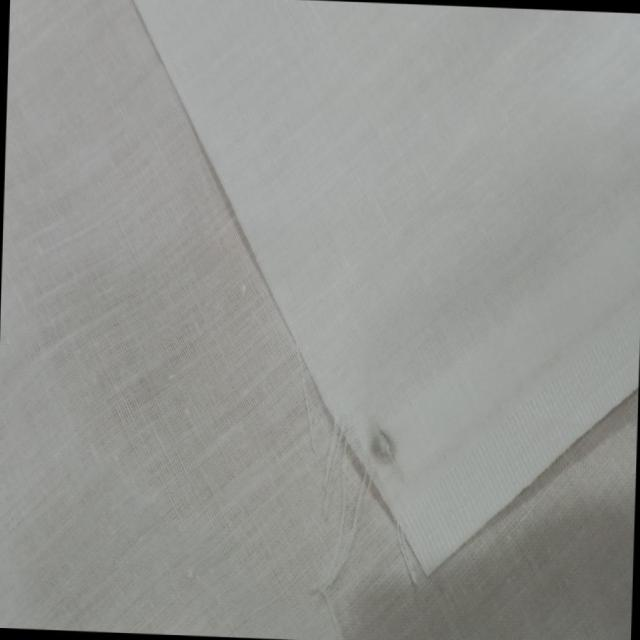stain: (356, 409, 414, 486)
